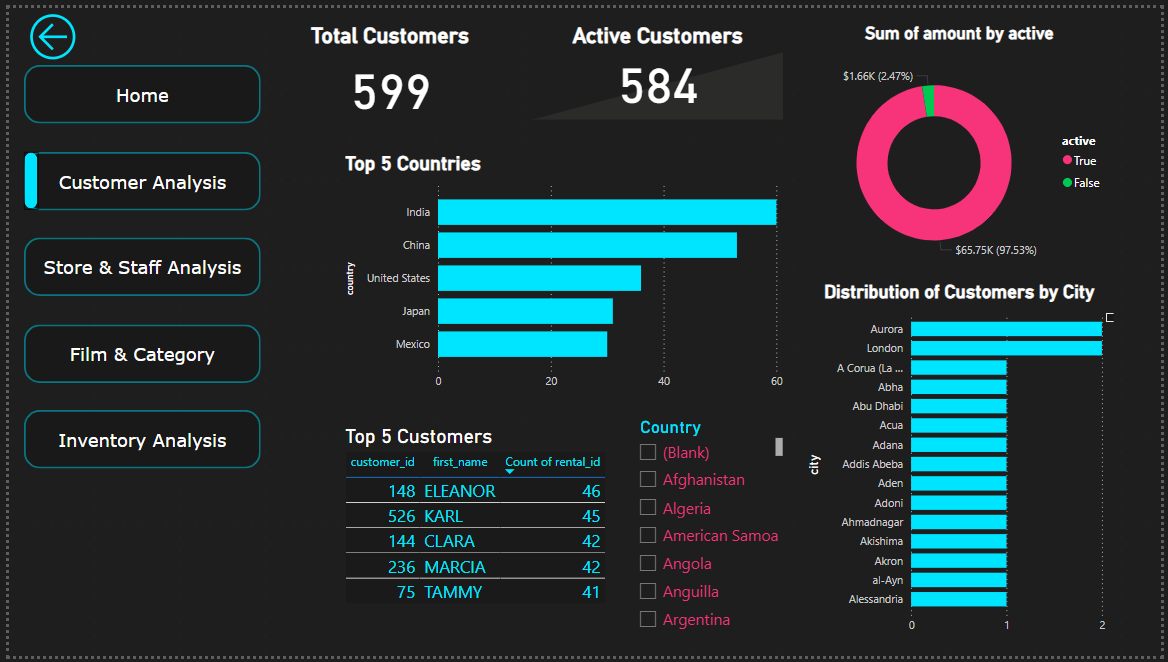

Layout of this report page (visuals, bound fields, positions):
{"tool":"powerbi","page":{"name":"Customer Analysis","canvas":[1280,720],"ordinal":1},"visuals":[{"type":"donutChart","title":"Revenue by Active Customers ","fields":{"Category":["customer.active"],"Y":["Sum(payment.amount)"]},"box":[880,16,352,288],"z":0},{"type":"shape","box":[16,160,263,65],"z":0,"group":"g1"},{"type":"shape","box":[16,256,263,65],"z":1000,"group":"g1"},{"type":"clusteredBarChart","title":"Distribution of Customers  by City","fields":{"Y":["CountNonNull(customer.customer_id)"],"Category":["city.city"]},"box":[880,304,352,400],"z":1000},{"type":"clusteredBarChart","title":"Top 5 Countries","fields":{"Category":["country.country"],"Y":["CountNonNull(customer.customer_id)"]},"box":[368,160,496,272],"z":2000},{"type":"shape","box":[16,352,263,65],"z":2000,"group":"g1"},{"type":"group","id":"g1","title":"Group 3","box":[16,64,263,449],"z":3000},{"type":"shape","box":[16,448,263,65],"z":3000,"group":"g1"},{"type":"shape","box":[16,64,263,65],"z":4000,"group":"g1"},{"type":"shape","box":[16,160,16,64],"z":4000},{"type":"card","title":"Total Customers","fields":{"Values":["CountNonNull(customer.customer_id)"]},"box":[304,16,240,112],"z":5000},{"type":"kpi","title":"Active Customers","fields":{"Indicator":["CountNonNull(customer.customer_id)"],"TrendLine":["customer.active"]},"box":[576,16,288,112],"z":6000},{"type":"tableEx","title":"Top 5 Customers","fields":{"Values":["payment.customer_id","customer.first_name","payment.rental_id"]},"box":[368,464,320,256],"z":7000},{"type":"slicer","fields":{"Values":["country.country"]},"box":[688,448,176,256],"z":8000},{"type":"actionButton","box":[16,0,64,64],"z":9000}]}

Visuals, with their boxes in screenshot pixels (x1, y1, x2, y2), scaled from the page's 1280x720 canvas onto the 1168x662 screenshot:
"Revenue by Active Customers " donutChart: left=803, top=15, right=1124, bottom=280
shape: left=15, top=147, right=255, bottom=207
shape: left=15, top=235, right=255, bottom=295
"Distribution of Customers  by City" clusteredBarChart: left=803, top=280, right=1124, bottom=647
"Top 5 Countries" clusteredBarChart: left=336, top=147, right=788, bottom=397
shape: left=15, top=324, right=255, bottom=383
"Group 3" group: left=15, top=59, right=255, bottom=472
shape: left=15, top=412, right=255, bottom=472
shape: left=15, top=59, right=255, bottom=119
shape: left=15, top=147, right=29, bottom=206
"Total Customers" card: left=277, top=15, right=496, bottom=118
"Active Customers" kpi: left=526, top=15, right=788, bottom=118
"Top 5 Customers" tableEx: left=336, top=427, right=628, bottom=661
slicer - country.country: left=628, top=412, right=788, bottom=647
actionButton: left=15, top=0, right=73, bottom=59
